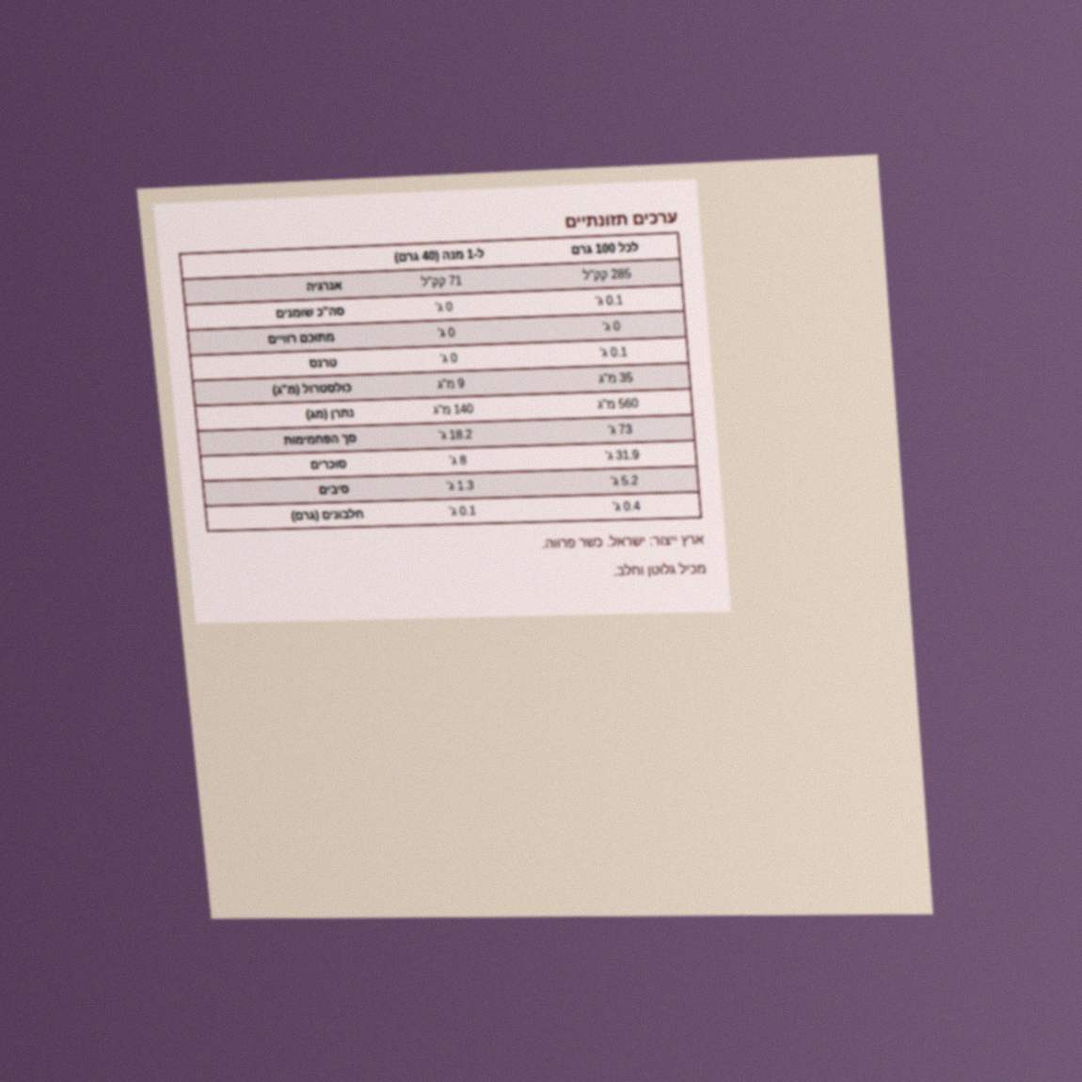carbs: (606, 421, 634, 438)
energy: (581, 265, 633, 284)
fat: (593, 292, 625, 309)
protein: (611, 498, 642, 515)
